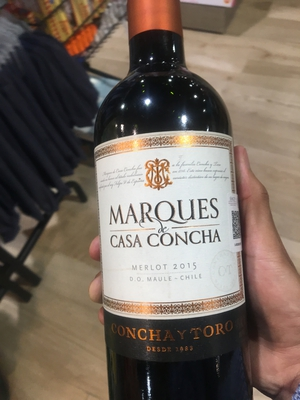marques de casa concha merlot: (85, 18, 247, 386)
